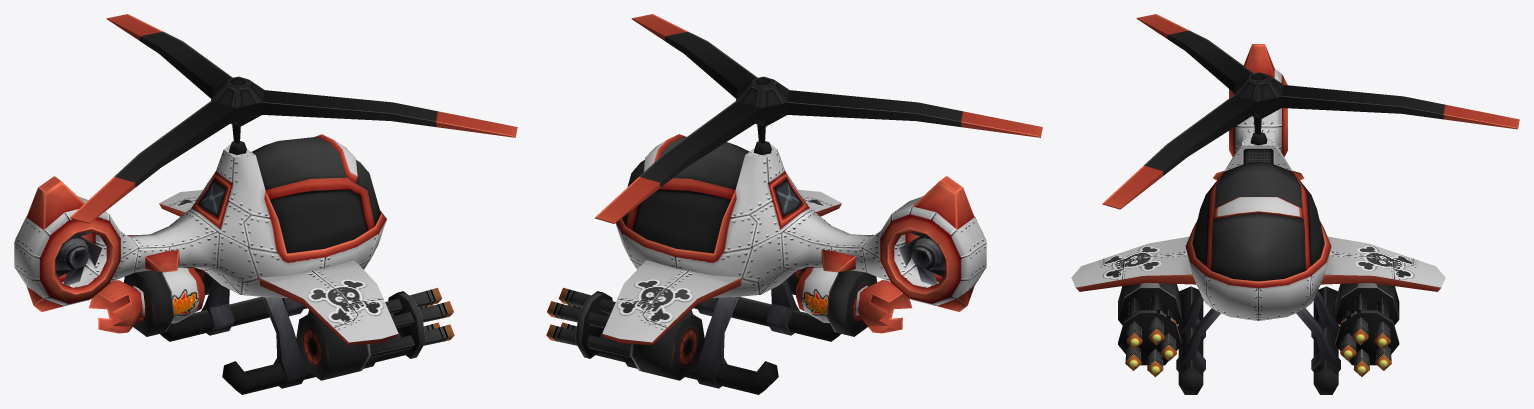
Rendered from may bay.FBX.
3 views of the same model, side by side, from view 1: azimuth 30°, elevation 25°; view 2: azimuth 150°, elevation 25°; view 3: azimuth 270°, elevation 25° (orthographic). The views are drawn at different scales.
Parts seen in each view (by area): view 1: Object001, Object011, Object028, Object024, Object027; view 2: Object001, Object011, Object028, Object026, Object027; view 3: Object001, Object011, Object024, Object026.
Boxes of the visible parts, bbox=[...] form: Object001: bbox=[14, 134, 404, 394]; Object011: bbox=[70, 14, 517, 223]; Object028: bbox=[89, 267, 204, 333]; Object024: bbox=[369, 287, 454, 358]; Object027: bbox=[56, 231, 102, 285]; Object001: bbox=[596, 134, 986, 394]; Object011: bbox=[594, 14, 1042, 223]; Object028: bbox=[796, 267, 912, 333]; Object026: bbox=[546, 287, 631, 358]; Object027: bbox=[899, 231, 945, 285]; Object001: bbox=[1071, 44, 1445, 394]; Object011: bbox=[1102, 14, 1519, 209]; Object024: bbox=[1118, 293, 1181, 377]; Object026: bbox=[1335, 293, 1399, 376].
Bounding box in the file's own units: 842 × 525 × 818.
